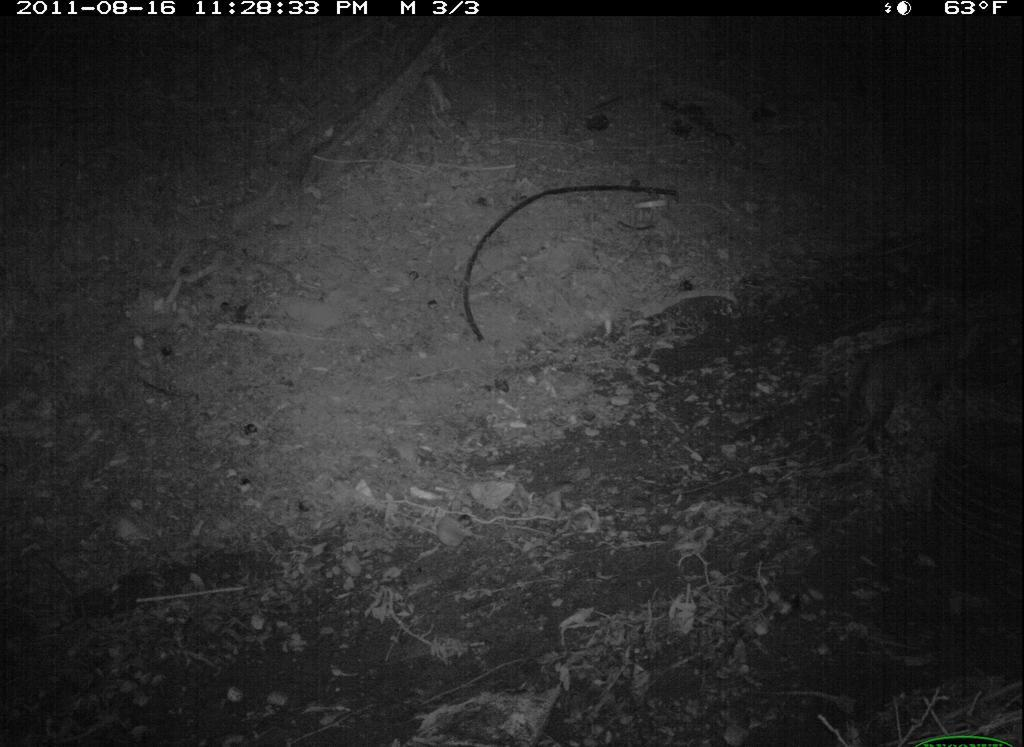cat: (833, 312, 994, 457)
